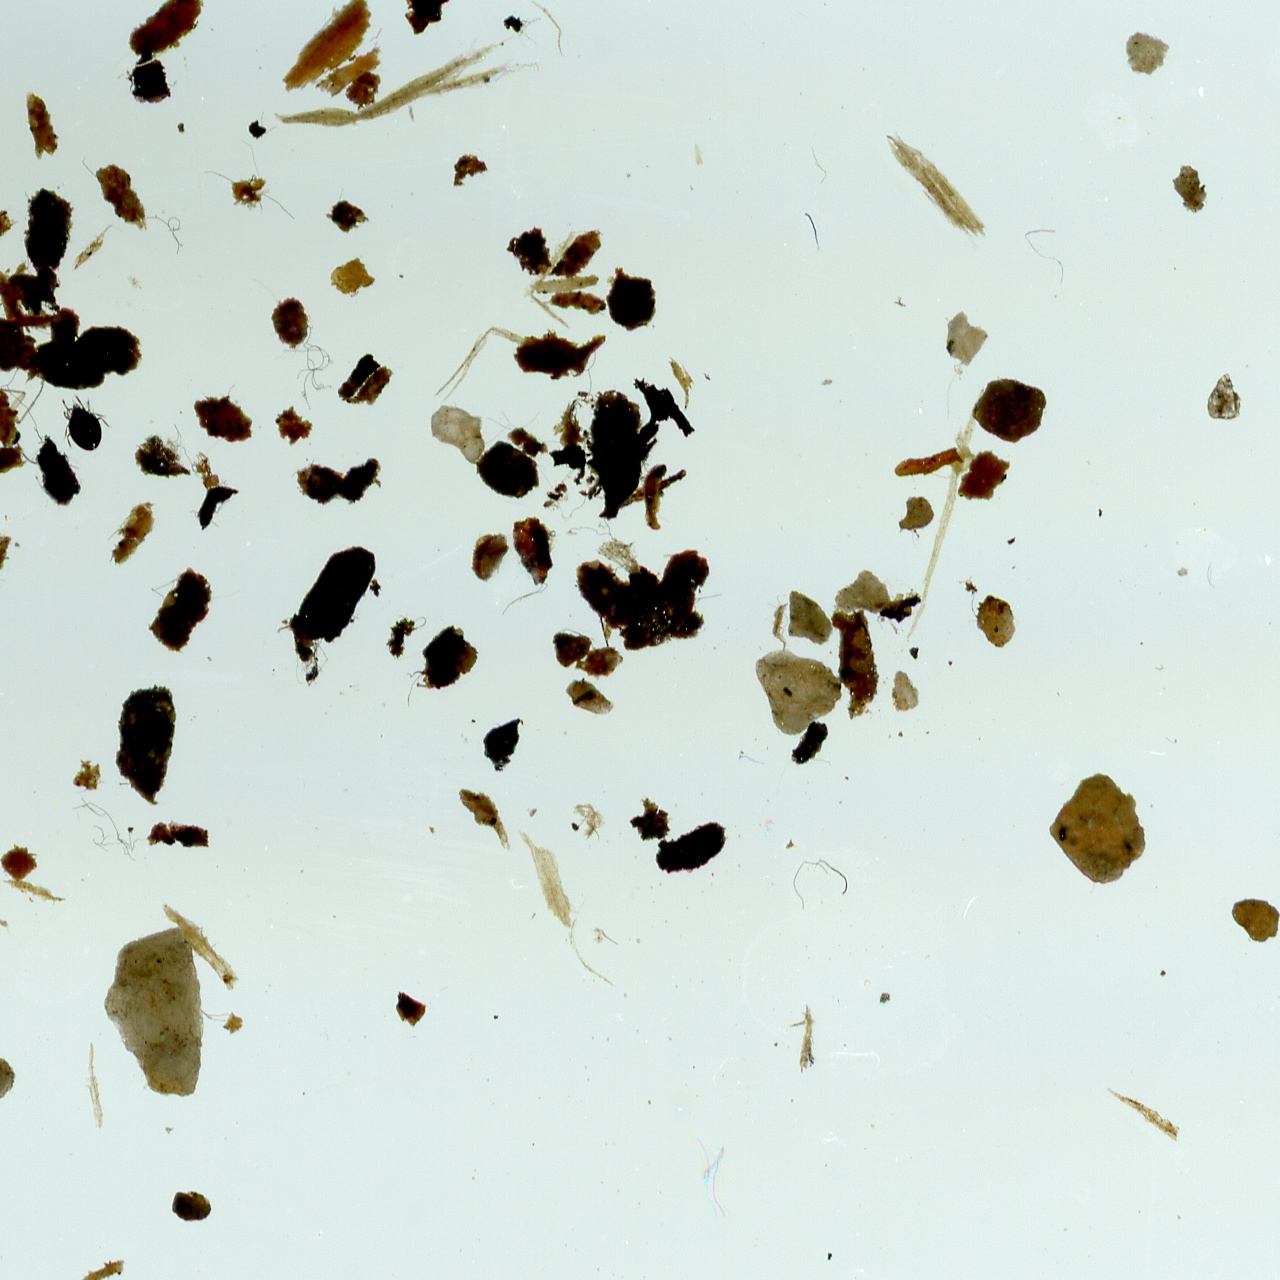arthropod: (0, 359, 50, 449), (59, 390, 113, 454)
